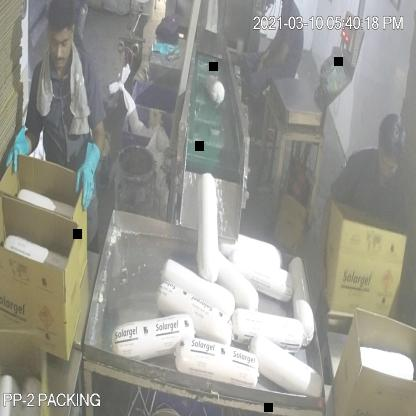glove: (71, 128, 106, 222), (4, 124, 36, 180)
no_glove: (314, 192, 338, 304), (259, 31, 297, 74)
